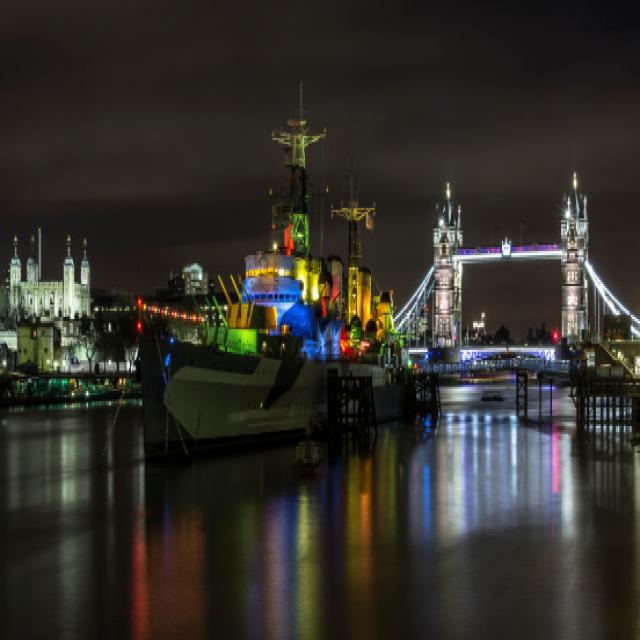Boat: (146, 162, 442, 453)
